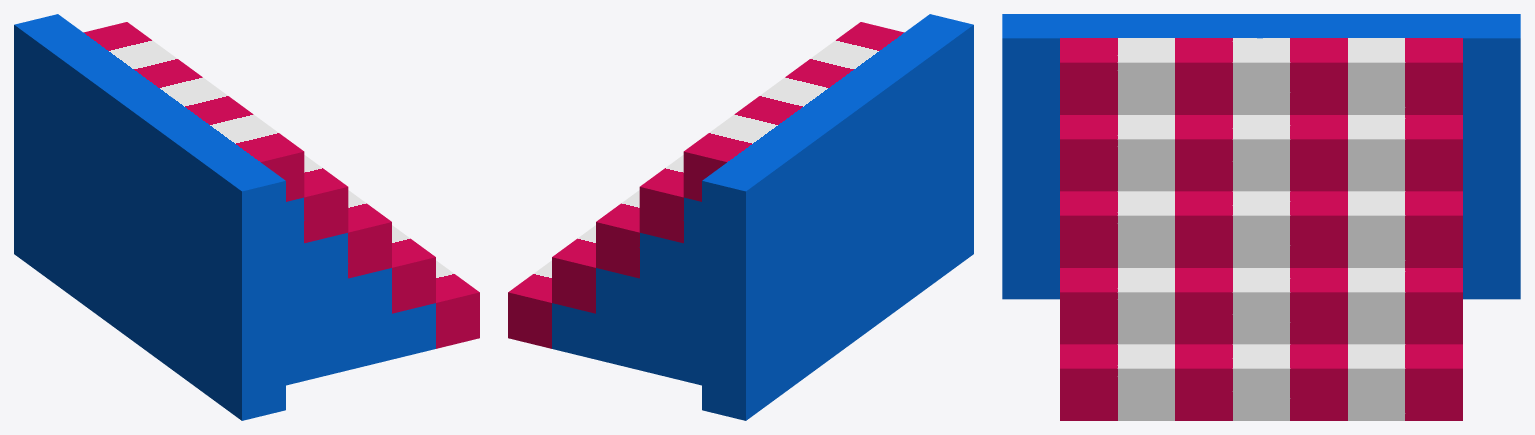
3 renders of one model, left to right at view 1: azimuth 30°, elevation 25°; view 2: azimuth 150°, elevation 25°; view 3: azimuth 270°, elevation 25°, orthographic. The views are drawn at different scales.
Visible parts, largest first — view 1: Matrix_5; view 2: Matrix_5; view 3: Matrix_5.
Part boxes in pixels (<box>): Matrix_5: <box>14,14,479,420</box>; Matrix_5: <box>508,14,973,420</box>; Matrix_5: <box>1002,14,1520,420</box>.
Size of the model in its own units: 6 by 5 by 9.
Materials: 1 (1 with a texture image).
